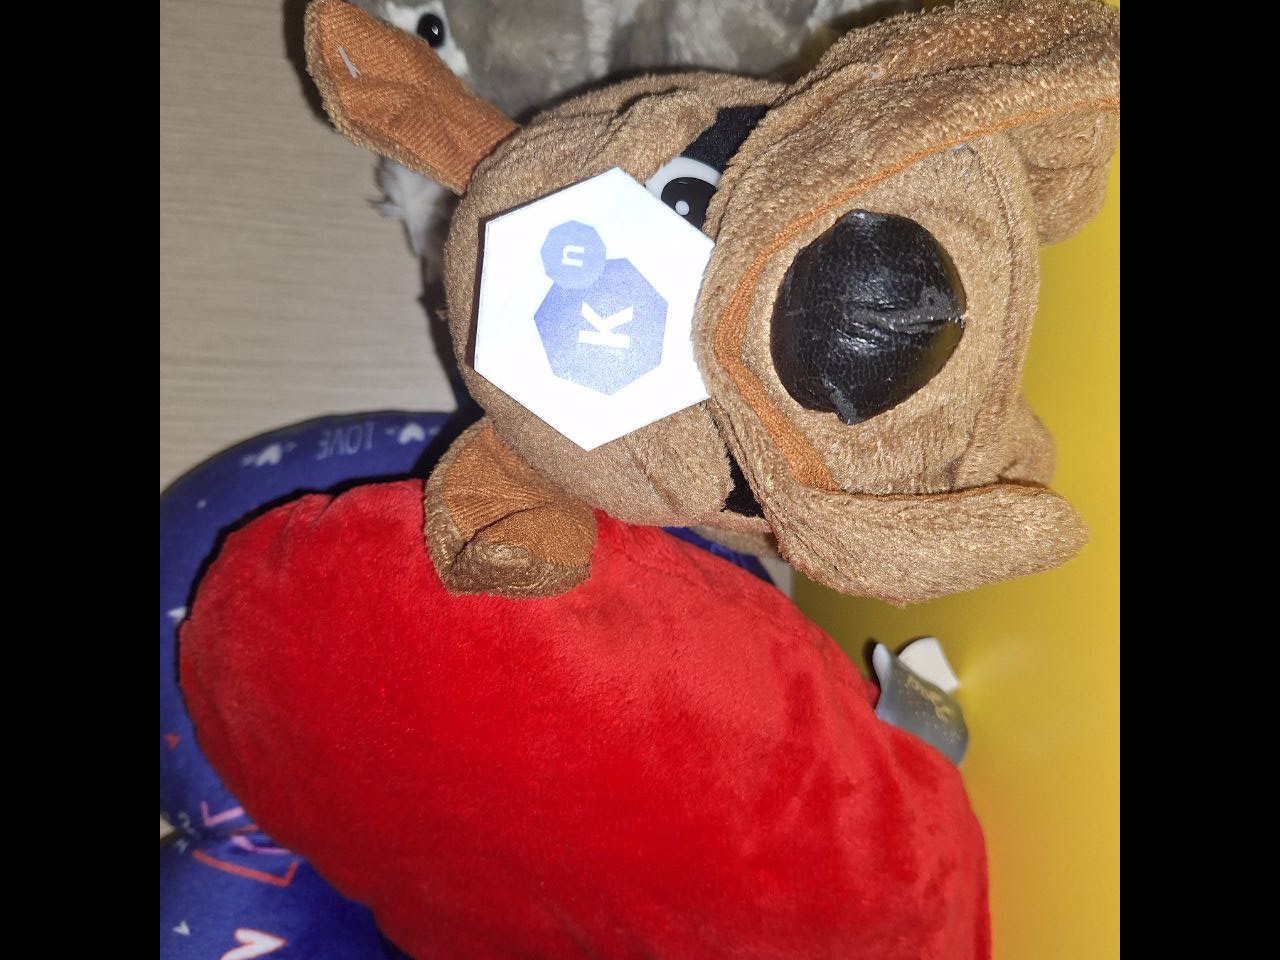knative: (531, 217, 671, 397)
